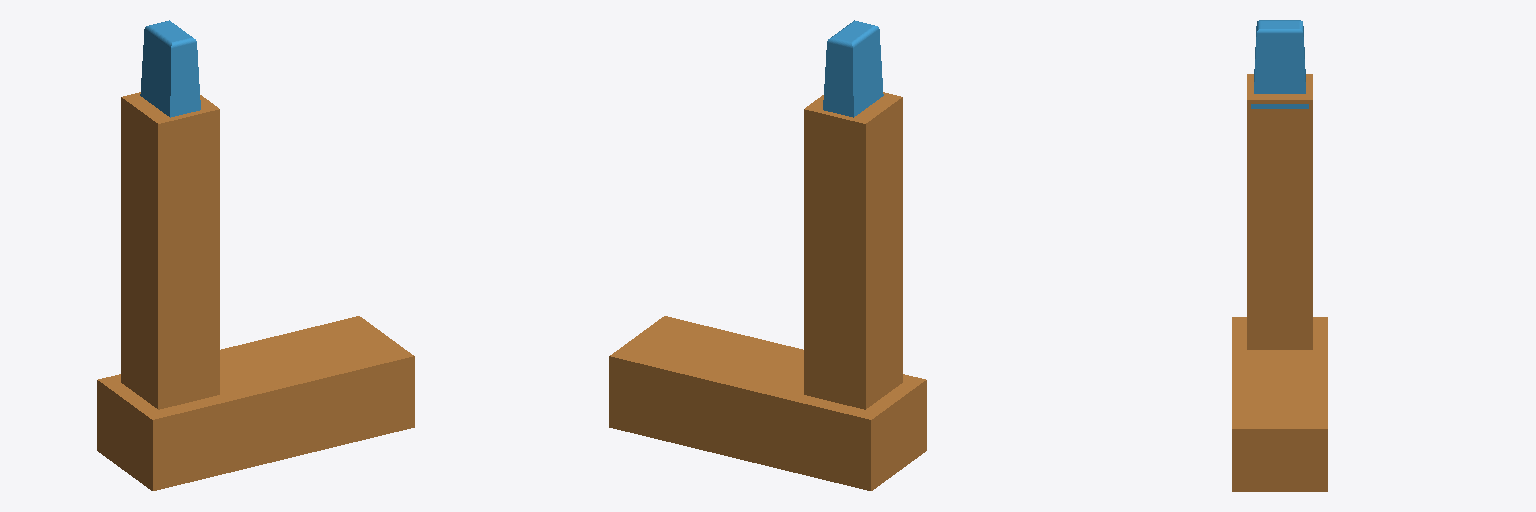
URDF robot description (fixture_beam_3x_part_0_sdf_hybrid):
<?xml version="1.0" encoding="utf-8"?>
<robot name="fixture_beam_3x_part_0_sdf_hybrid">
  <link name="plate">
    <visual>
      <origin xyz="-0.047589 -0.000000 0.095250" rpy="0.000000 0.000000 0.000000"/>
      <geometry>
        <box size="0.034509 0.036010 0.190500"/>
      </geometry>
      <material name="bulk"/>
    </visual>
    <collision>
      <origin xyz="-0.047589 -0.000000 0.095250" rpy="0.000000 0.000000 0.000000"/>
      <geometry>
        <box size="0.034509 0.036010 0.190500"/>
      </geometry>
    </collision>
    <visual>
      <origin xyz="-0.000000 0.000000 0.019050" rpy="0.000000 0.000000 0.000000"/>
      <geometry>
        <box size="0.146250 0.053340 0.038100"/>
      </geometry>
      <material name="bulk"/>
    </visual>
    <collision>
      <origin xyz="-0.000000 0.000000 0.019050" rpy="0.000000 0.000000 0.000000"/>
      <geometry>
        <box size="0.146250 0.053340 0.038100"/>
      </geometry>
    </collision>
    <visual>
      <origin xyz="-0.047625 -0.000000 0.113075" rpy="0.000000 -1.570796 0.000000"/>
      <geometry>
        <mesh filename="../2/sdf_hybrid/2_hole_patch_for_part_0.obj" scale="1 1 1"/>
      </geometry>
      <material name="hole"/>
    </visual>
    <collision>
      <origin xyz="-0.047625 -0.000000 0.113075" rpy="0.000000 -1.570796 0.000000"/>
      <geometry>
        <mesh filename="../2/sdf_hybrid/2_hole_patch_for_part_0.obj" scale="1 1 1"/>
      </geometry>
      <sdf resolution="256"/>
    </collision>
  </link>
  <material name="bulk">
    <color rgba="0.78 0.55 0.30 1.0"/>
  </material>
  <material name="hole">
    <color rgba="0.30 0.65 0.85 1.0"/>
  </material>
</robot>

--- Facts derived from the render (not from the file) ---
The picture shows the robot from 3 angles, left to right: view 1: azimuth 30°, elevation 25°; view 2: azimuth 150°, elevation 25°; view 3: azimuth 270°, elevation 25°; orthographic projection.
Robot: fixture_beam_3x_part_0_sdf_hybrid — 1 links, 0 joints (none); root link plate; default pose: all joints at 0.
Visible links, largest first — view 1: plate; view 2: plate; view 3: plate.
Link boxes in pixels (x1=…): plate: x1=97, y1=20, x2=414, y2=490; plate: x1=609, y1=20, x2=926, y2=490; plate: x1=1232, y1=20, x2=1327, y2=491.
Bounding box of the posed robot: 0.1462 × 0.0533 × 0.2286 m (x, y, z).
Meshes: 1 distinct files referenced, 1 mesh visuals loaded (1 OBJ).
